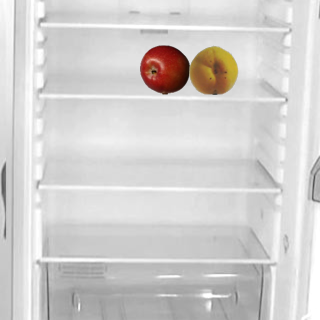Apple Braeburn: (139, 44, 189, 94)
Peach 2: (188, 44, 238, 94)
